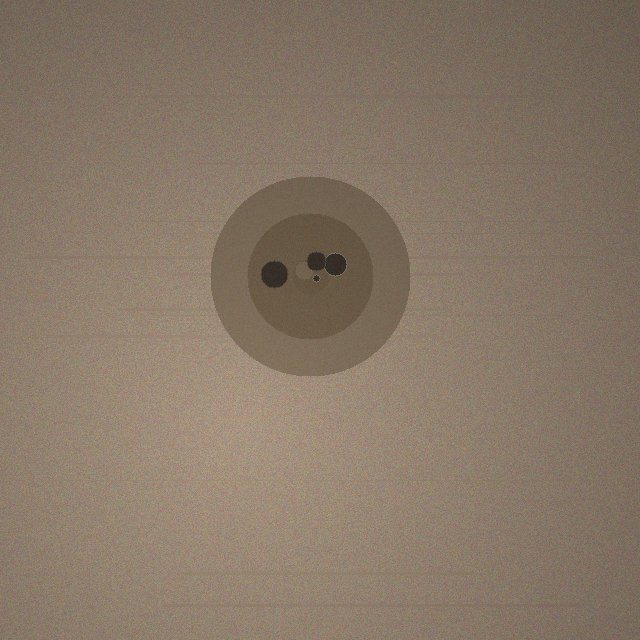shrinkage: (210, 176, 410, 376)
